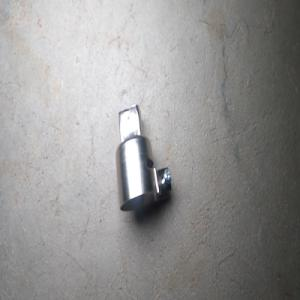MetalPart: (114, 102, 172, 212)
